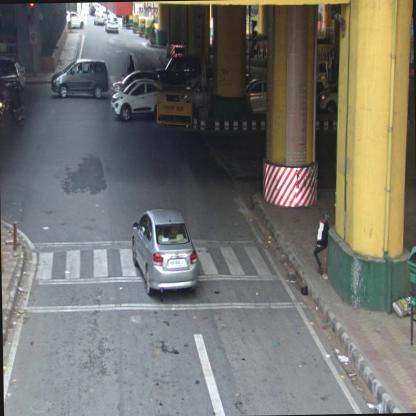car: (132, 207, 198, 296), (49, 58, 109, 100), (110, 78, 164, 119), (66, 12, 83, 29), (104, 15, 118, 34), (93, 7, 108, 24)
motorcycle: (0, 88, 25, 130)
